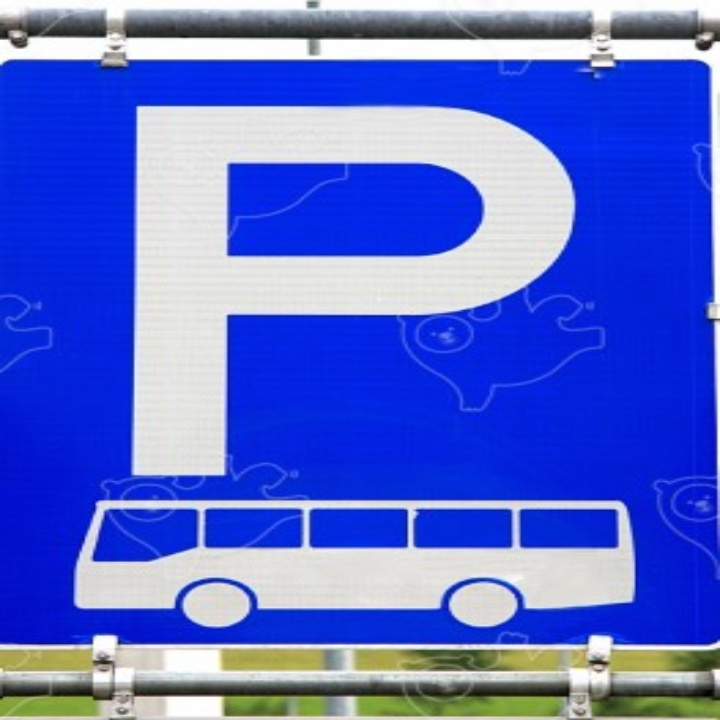parking: (124, 85, 587, 483)
